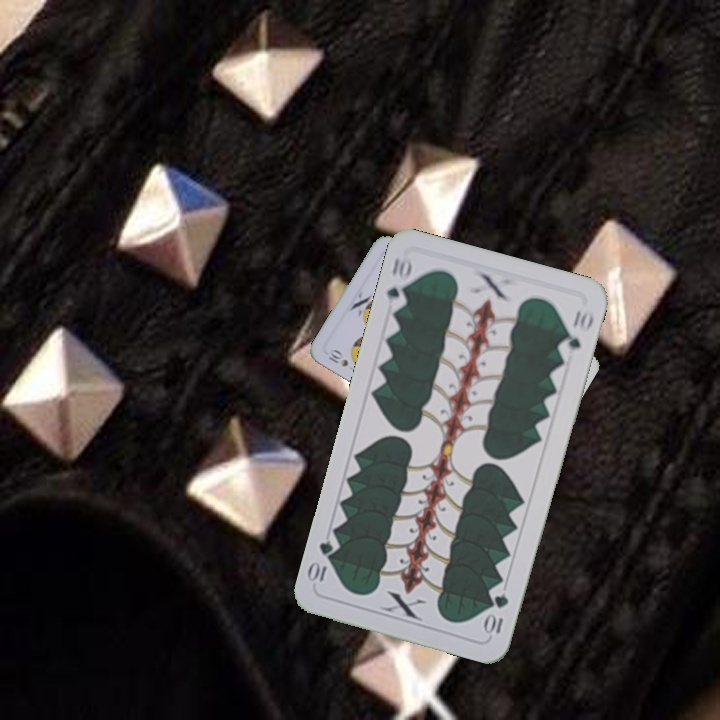G10: (382, 252, 415, 312), (482, 589, 511, 639)
S10: (323, 345, 351, 370)
